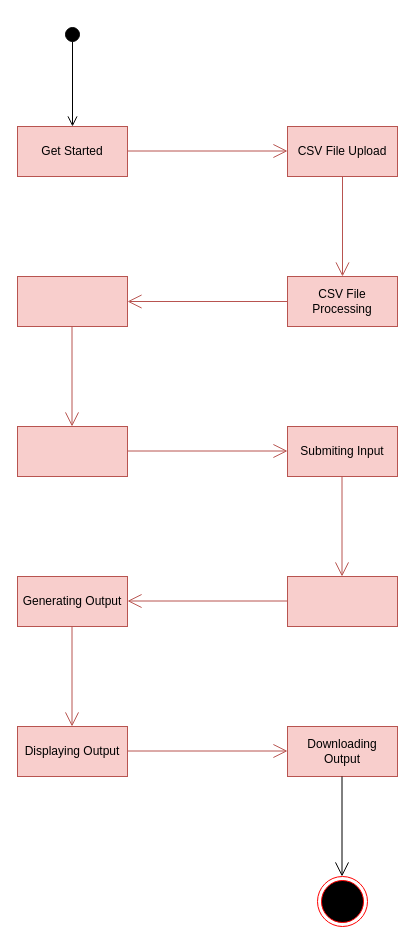
Some shapes in this 415 by 944 pixel diagram are drawn without their labels. The centre of each missing label's shape, as x and y in pixels:
"Processing Input" belongs at pixel 342 601.
"Selecting Inputs" belongs at pixel 72 451.
"Selecting Operation" belongs at pixel 72 301.
